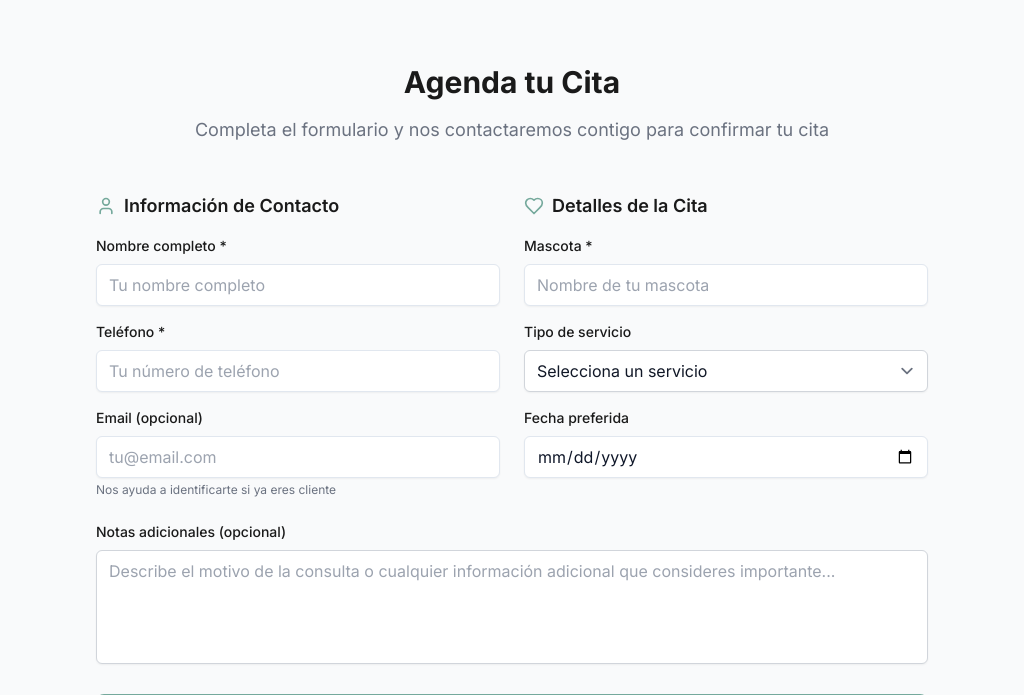
Scenario: QuickBooking › Customer Lookup › should show recognized customer UI when customer is found
The width and height of the screenshot is (1024, 695).
In the field labelled "Teléfono *": (298, 371) x1=96 y1=350 x2=500 y2=392, type "5512345678"
Wait 500 ms
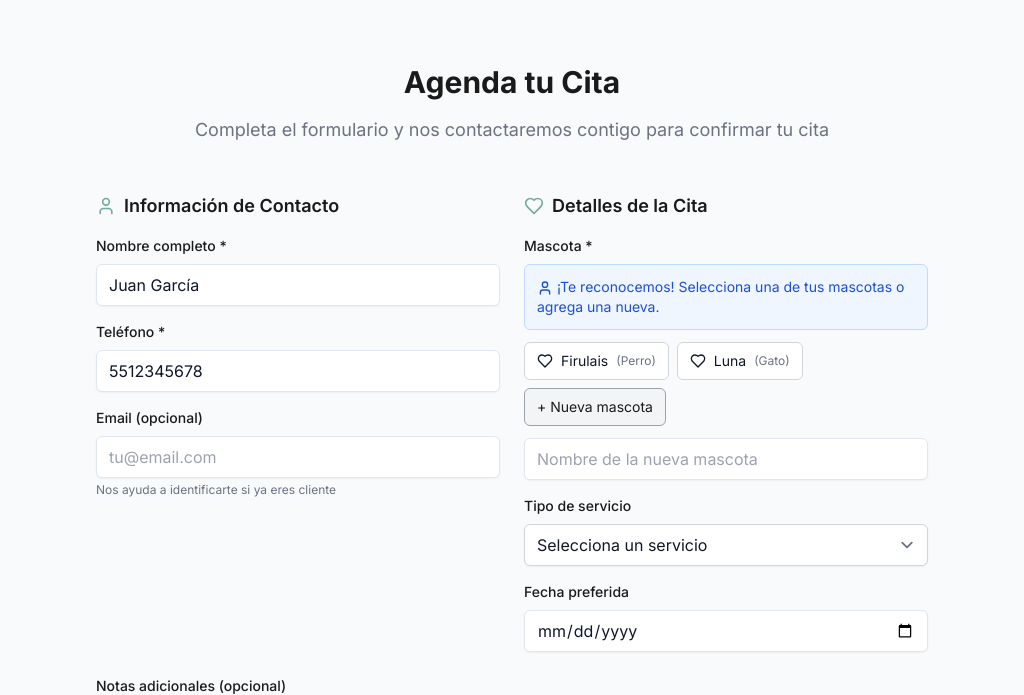
Result: the text "Te reconocemos" is shown at x1=537 y1=278 x2=904 y2=315
